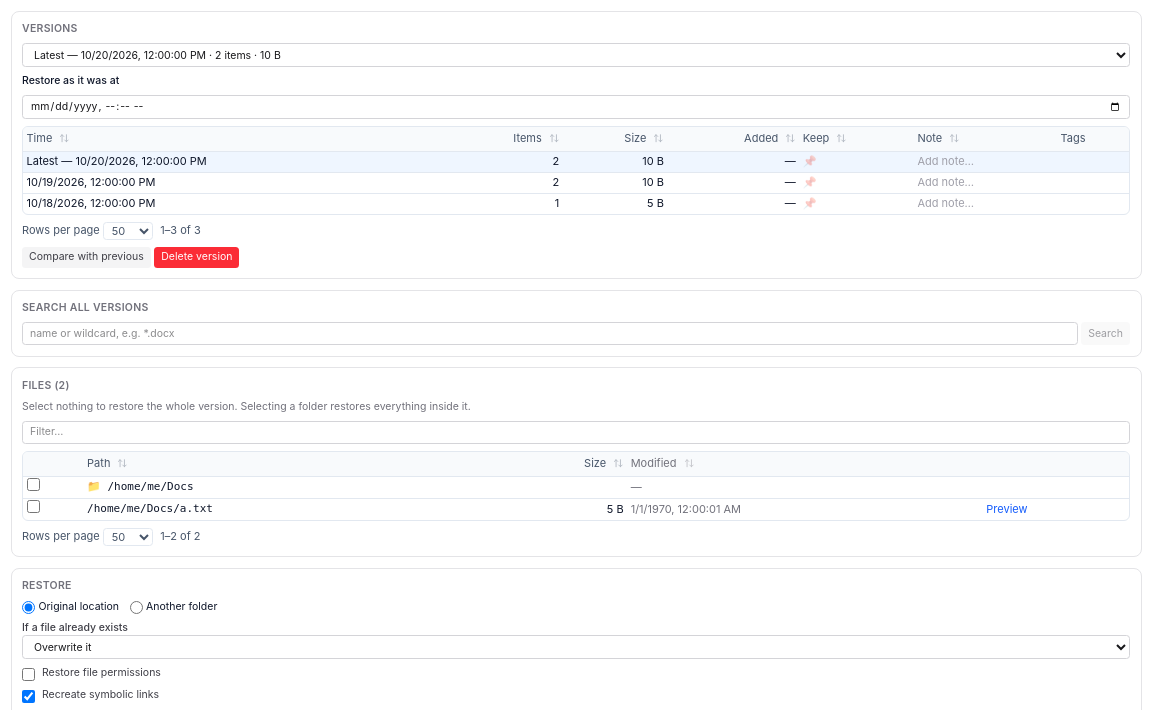
Test case: restore view › runs a mirror restore only after the deletion list is confirmed
Check: the element with test id "backup-file-list" shows "a.txt", box [87, 502, 213, 515]
Click the radio button labelled "Another folder".
click(136, 607)  # box [130, 600, 142, 614]
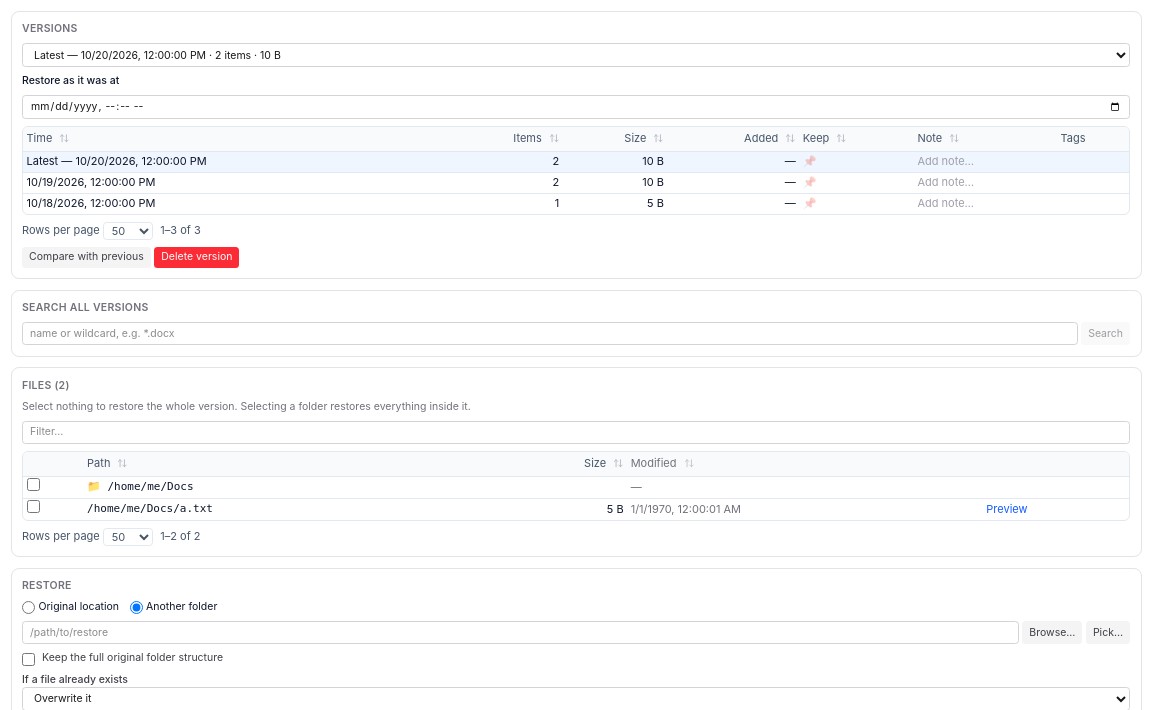
Type "/r" into the field with test id "restore-target".
click(520, 632); type("/r")  # box [22, 621, 1019, 644]
(page scrolled)
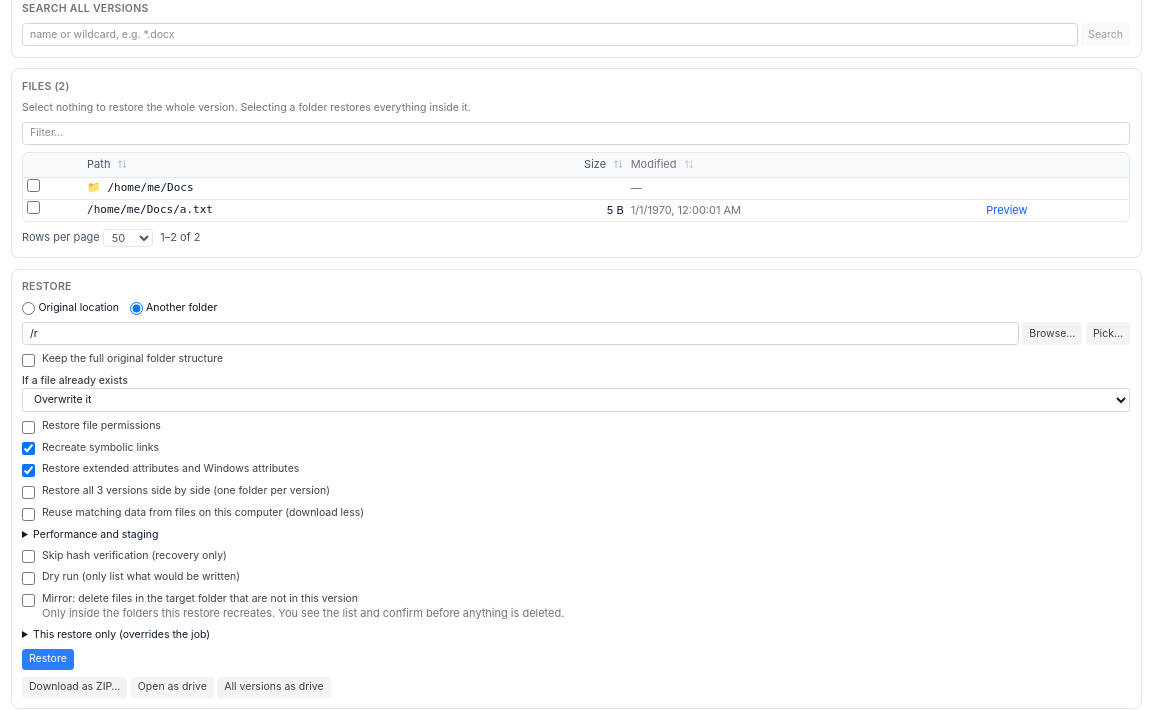
Click the checkbox labelled "Mirror: delete files".
click(28, 600)  # box [22, 594, 35, 607]
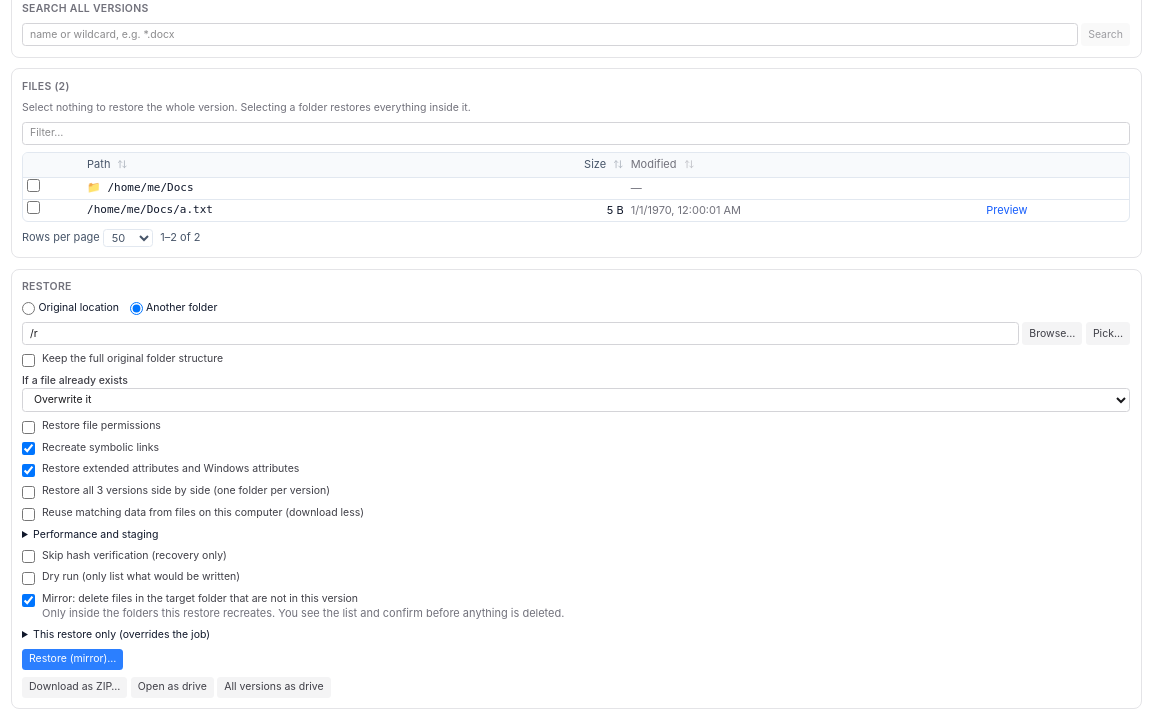
Click the button with test id "backup-restore-run".
click(73, 659)  # box [22, 649, 123, 670]
(page scrolled)
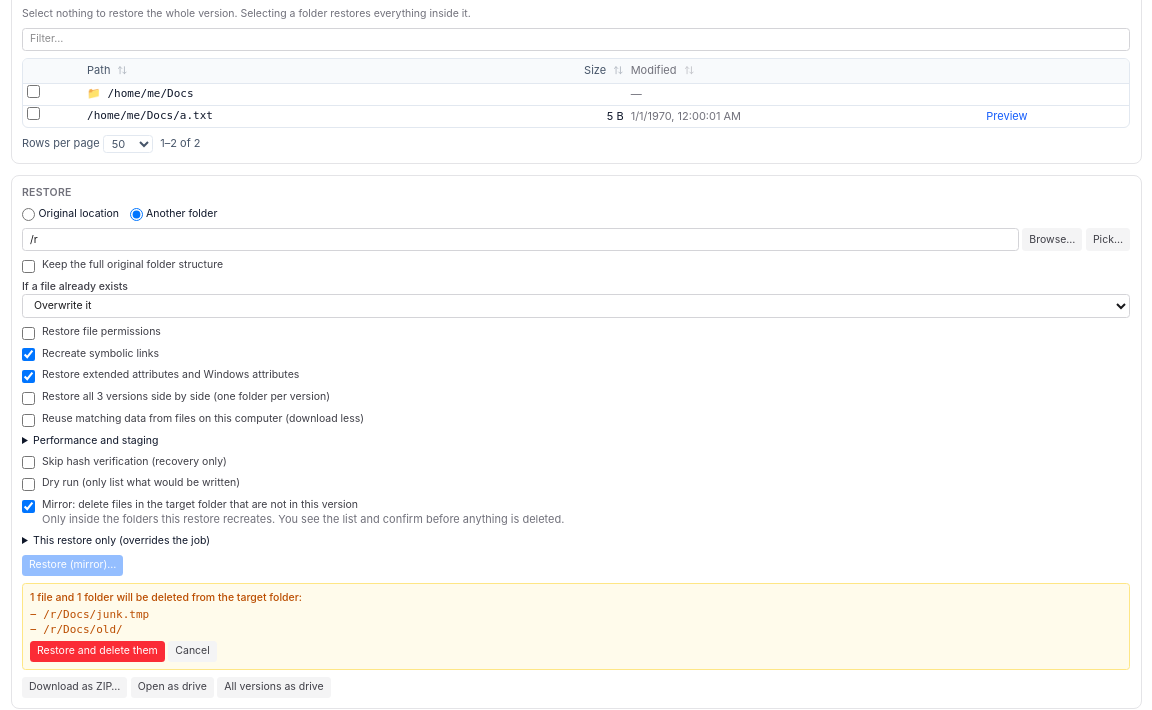
Check: the element with test id "mirror-confirm" shows "1 file and 1 folder will be deleted", box [30, 591, 302, 662]
Check: the element with test id "mirror-confirm" shows "/r/Docs/junk.tmp", box [43, 608, 149, 621]
Click the button with test id "mirror-confirm-delete".
click(97, 652)  # box [30, 641, 165, 662]
(page scrolled)
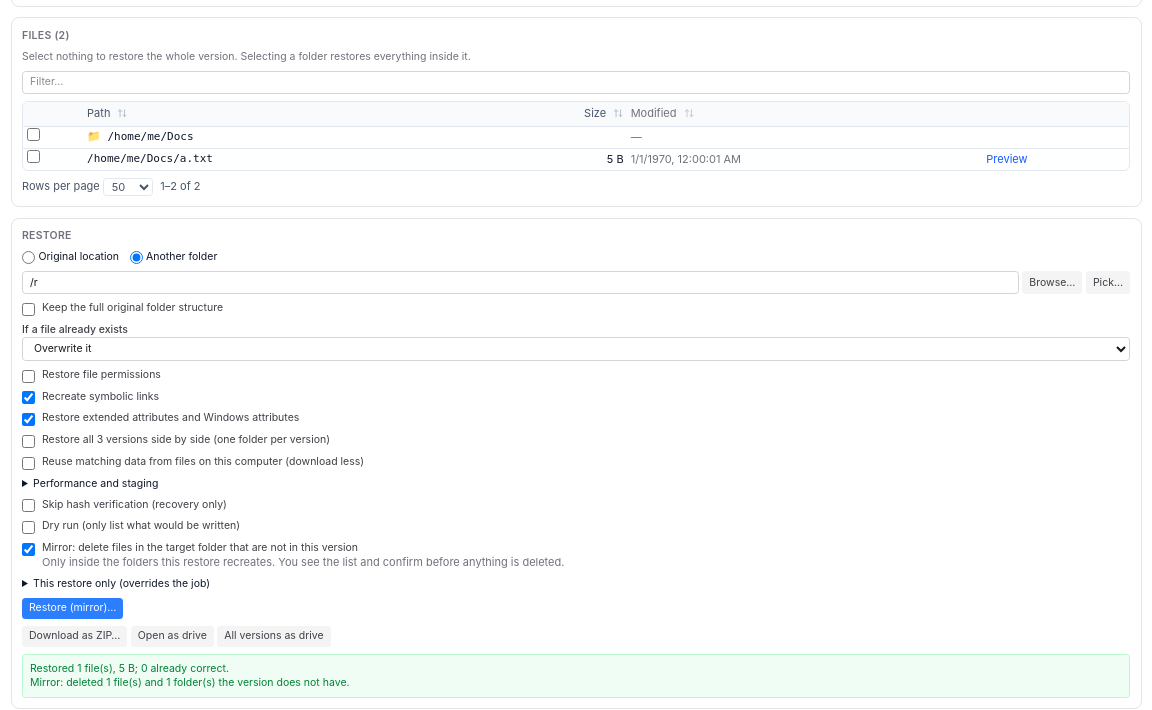
Check: the text "deleted 1 file(s) and 1 folder" is shown, box [30, 676, 350, 690]
